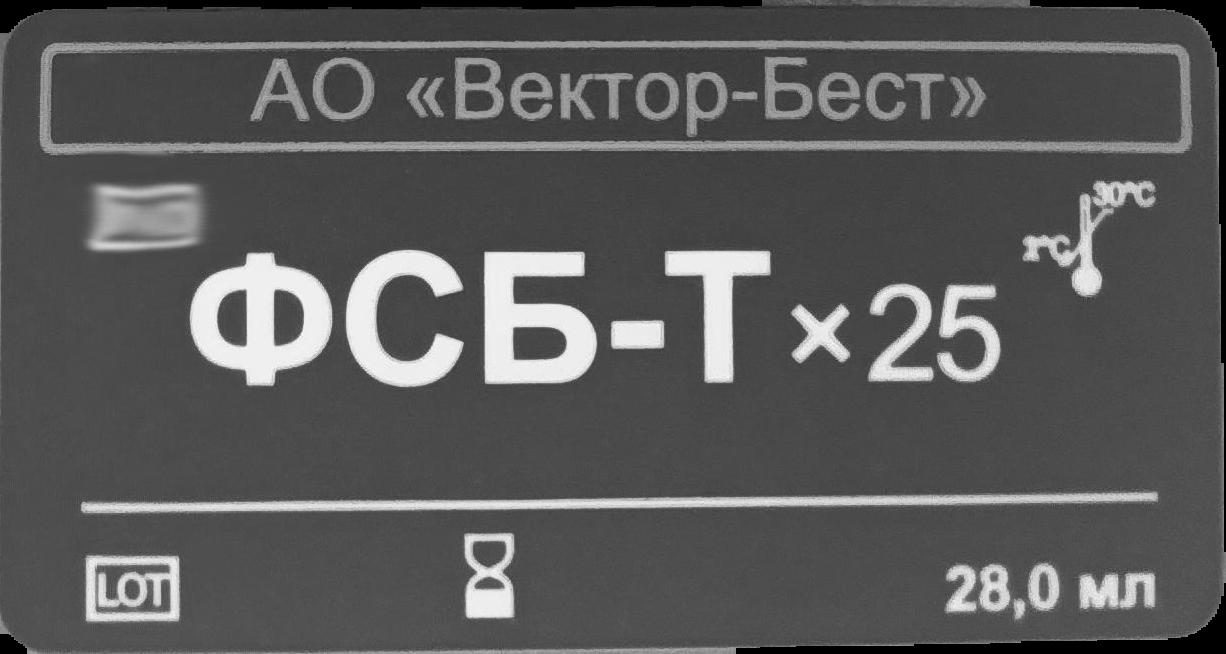something: (1021, 178, 1160, 301), (85, 181, 208, 255), (76, 552, 184, 624), (463, 529, 515, 626)
text: (184, 246, 1002, 390), (245, 55, 989, 148), (936, 558, 1157, 623)
